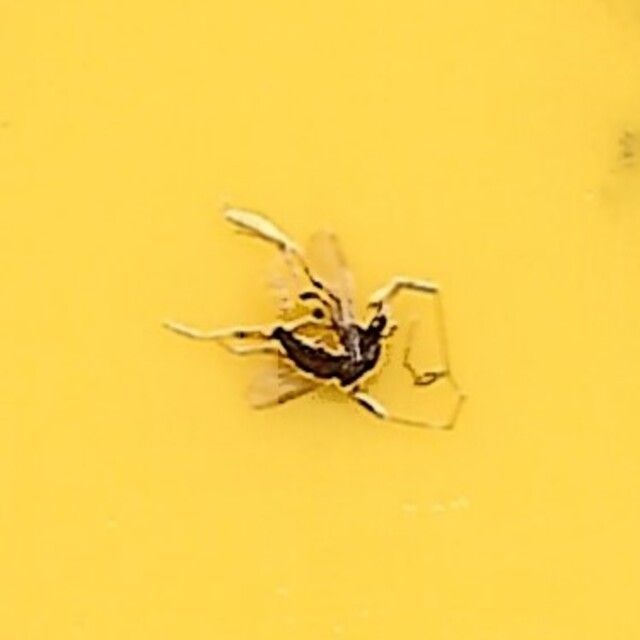Nematocera: (171, 206, 469, 434)
